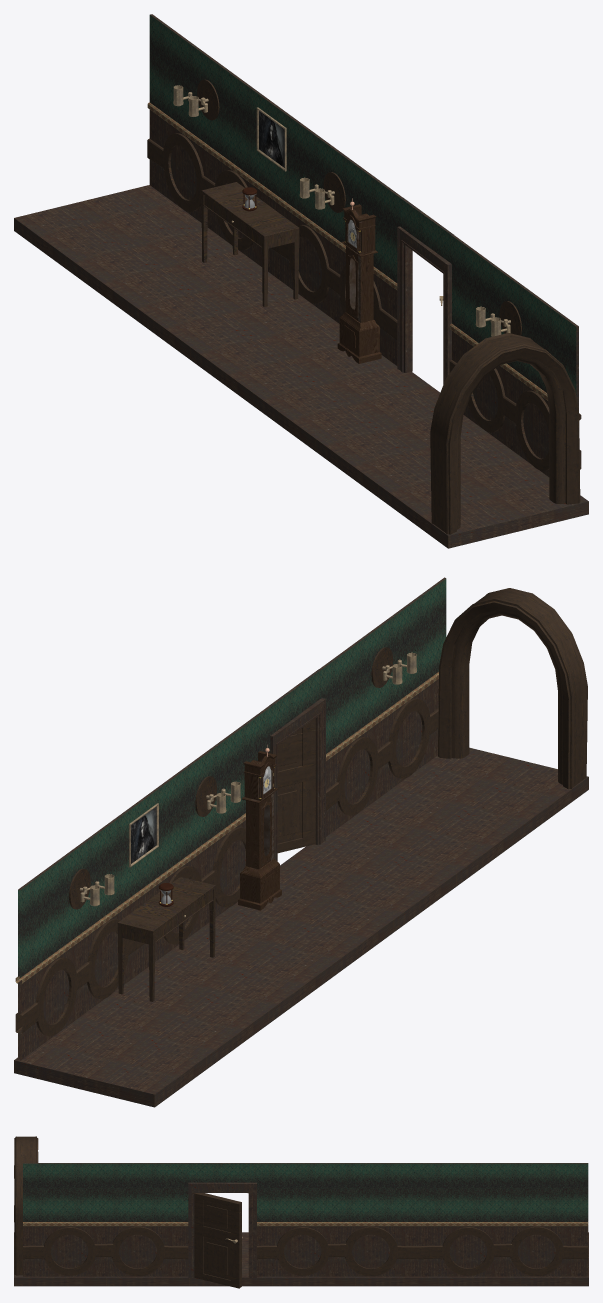
The model's file is haunted_diorama.glb.
3 renders of one model, top to bottom at view 1: azimuth 30°, elevation 25°; view 2: azimuth 150°, elevation 25°; view 3: azimuth 270°, elevation 25°, orthographic. The views are drawn at different scales.
Visible parts, largest first — view 1: Wall12, Wall11, Wall10, Arch_, Floor1, Floor3, Floor2, Floor5, Floor4, Floor6, Floor, Table (+5 smaller); view 2: Wall12, Wall10, Wall11, Arch_, Floor1, Floor6, Floor, Floor3, Floor5, Floor2, Floor4, Table (+6 smaller); view 3: Wall12, Wall10, Wall11, Door3, Doorway, Arch_, Wall13, Floor1, Floor, Floor4, Floor2, Floor5 (+2 smaller).
Boxes of the visible parts, x1,y1,x2,y2 form: Wall12: (147, 14, 277, 276); Wall11: (272, 106, 402, 365); Wall10: (449, 235, 581, 476); Arch_: (430, 333, 580, 534); Floor1: (378, 451, 588, 548); Floor3: (253, 360, 439, 451); Floor2: (127, 268, 325, 359); Floor5: (65, 222, 262, 313); Floor4: (190, 314, 387, 405); Floor6: (14, 185, 200, 267); Floor: (315, 410, 513, 496); Table: (201, 182, 299, 306); Wall12: (15, 798, 147, 1060); Wall10: (320, 577, 446, 836); Wall11: (143, 706, 270, 968); Arch_: (438, 588, 587, 789); Floor1: (384, 747, 588, 840); Floor6: (14, 1024, 206, 1107); Floor: (325, 795, 518, 886); Floor3: (280, 841, 456, 932); Floor5: (71, 978, 268, 1069); Floor2: (133, 932, 330, 1023); Floor4: (196, 892, 393, 978); Table: (117, 877, 215, 1001); Wall12: (421, 1163, 588, 1276); Wall10: (23, 1163, 188, 1276); Wall11: (256, 1163, 422, 1276); Door3: (194, 1193, 241, 1288); Doorway: (188, 1182, 256, 1277); Arch_: (14, 1136, 38, 1275); Wall13: (188, 1163, 256, 1182); Floor1: (14, 1232, 106, 1286); Floor: (106, 1276, 189, 1286); Floor4: (272, 1276, 355, 1286); Floor2: (355, 1276, 438, 1286); Floor5: (438, 1276, 520, 1286).
Size of the model in its own units: 3.31 by 3.24 by 13.85.
8 materials, 6 textured.
